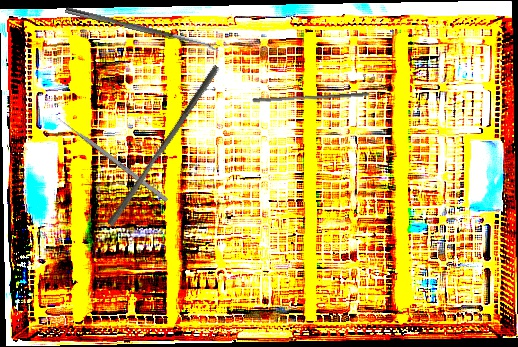Pusher: (106, 60, 221, 231), (54, 114, 169, 203), (251, 87, 371, 107)
Surgical Spoon: (64, 6, 221, 53)
